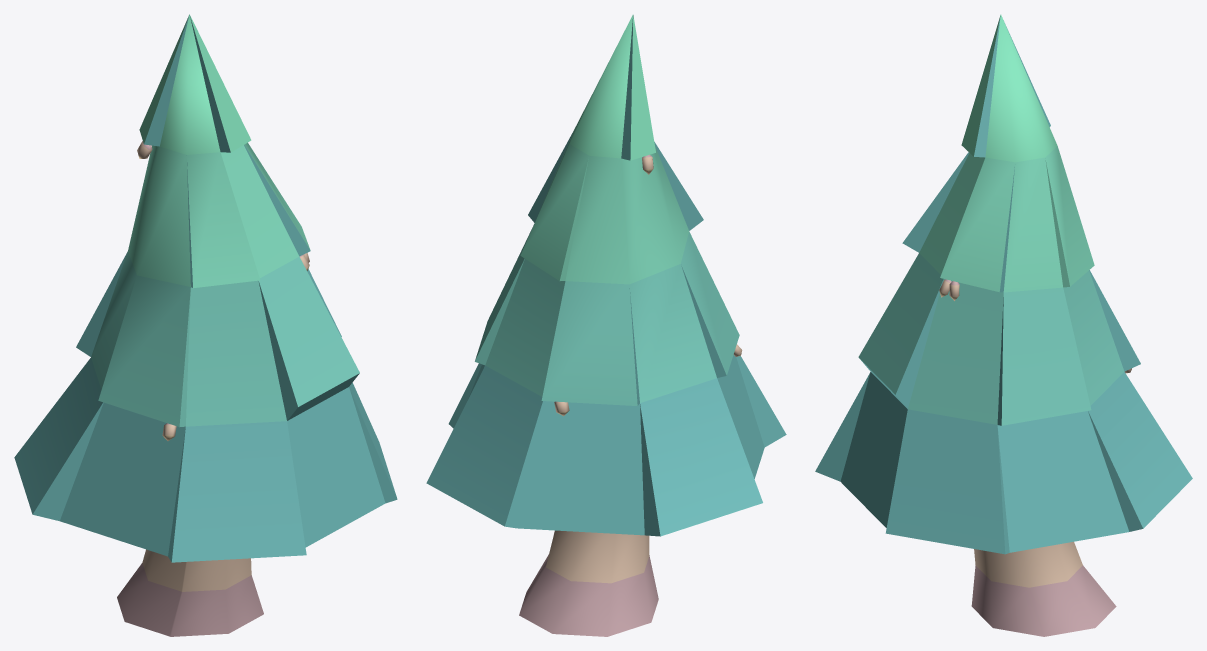
File: pinetree_v1.glb
3 renders of one model, left to right at view 1: azimuth 30°, elevation 25°; view 2: azimuth 150°, elevation 25°; view 3: azimuth 270°, elevation 25°, orthographic. The views are drawn at different scales.
Parts seen in each view (by area): view 1: PineTree_V1.001; view 2: PineTree_V1.001; view 3: PineTree_V1.001.
Part boxes in pixels (<box>): PineTree_V1.001: <box>14,14,397,636</box>; PineTree_V1.001: <box>426,14,786,636</box>; PineTree_V1.001: <box>815,14,1192,636</box>.
Size of the model in its own units: 2.22 by 3.85 by 2.26.
